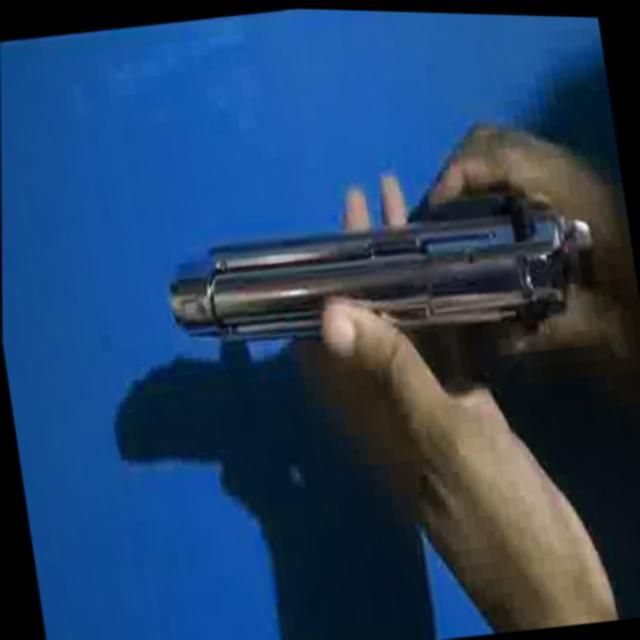weapon: (157, 167, 606, 375)
